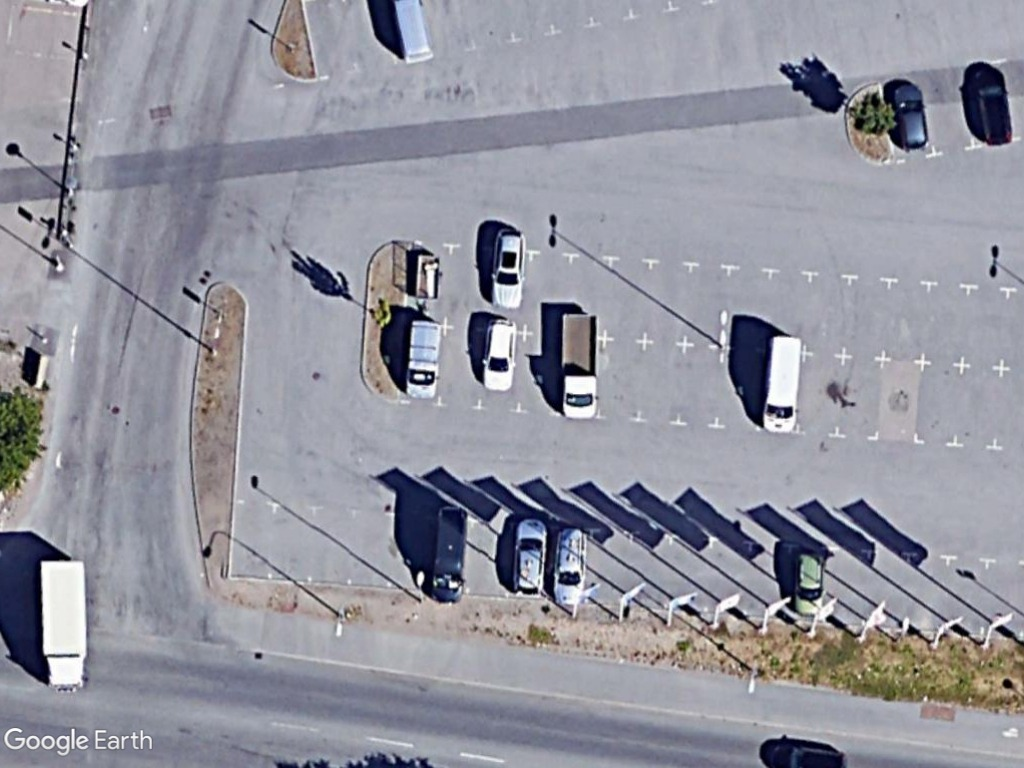car: (971, 65, 1015, 150), (486, 228, 531, 311), (550, 523, 592, 611), (507, 516, 551, 596), (891, 79, 933, 155), (481, 317, 520, 392), (789, 545, 826, 620)
other: (555, 308, 601, 424)
truck: (34, 554, 95, 694)
van: (758, 330, 807, 438), (428, 502, 472, 606), (402, 317, 444, 403)
